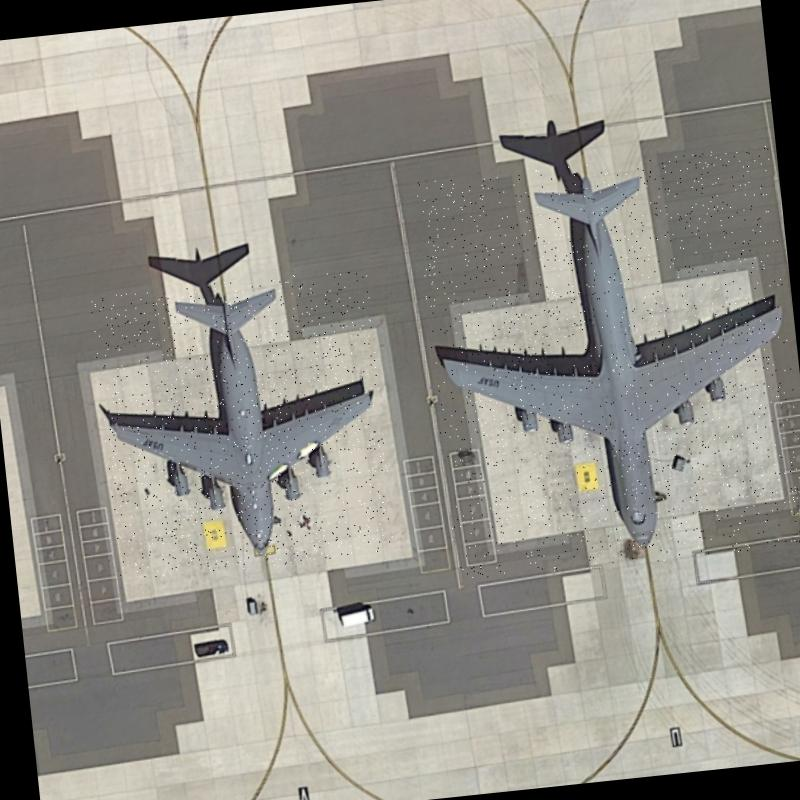A3: (89, 267, 396, 581)
A4: (413, 145, 800, 582)
